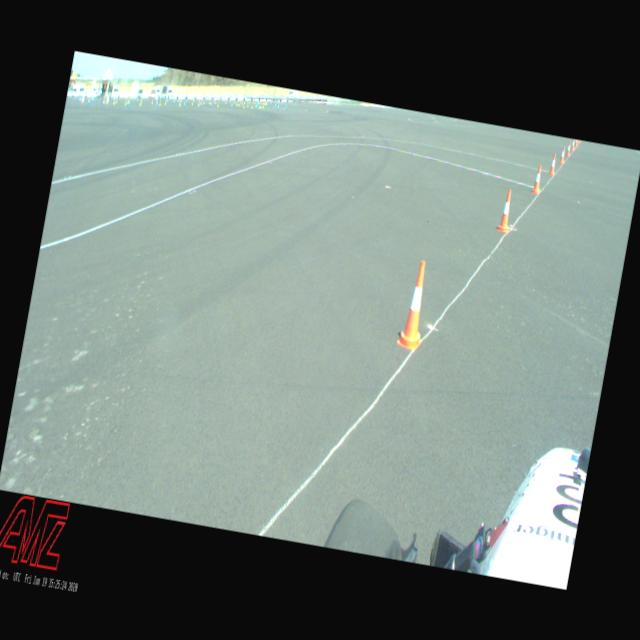blue_cone: (101, 98, 105, 106), (78, 95, 82, 102), (154, 100, 158, 106), (91, 95, 94, 102), (87, 98, 90, 104), (136, 97, 139, 103), (166, 95, 168, 103)
orange_cone: (395, 258, 435, 350), (497, 188, 515, 232), (532, 164, 544, 193), (548, 153, 556, 174), (559, 146, 566, 162), (566, 142, 571, 156), (571, 139, 575, 149)
yellow_cone: (114, 96, 118, 104), (138, 98, 142, 106), (150, 97, 154, 104), (158, 98, 162, 105), (112, 98, 116, 104), (124, 98, 127, 105), (164, 98, 166, 105)
